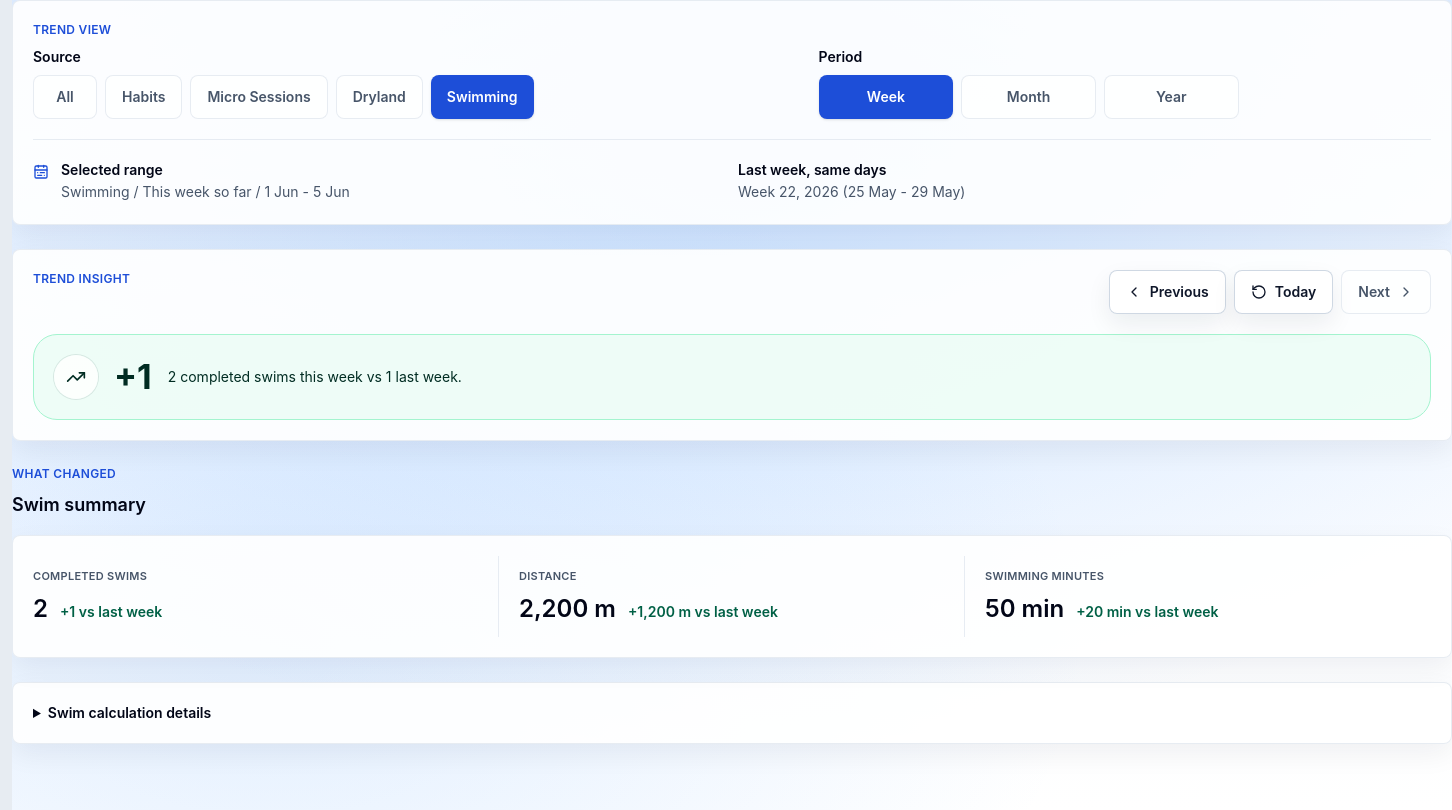
Test: CalendarPeriodComparisonHub › renders mapped Swimming metrics and trusted-row details
Expected: the heading "Swim summary" is shown, [12,494,146,515]
Expected: the text "+1" is shown, [114,356,152,397]
Click the heading "Swim calculation details".
click(130, 712)  # box [48,704,211,720]
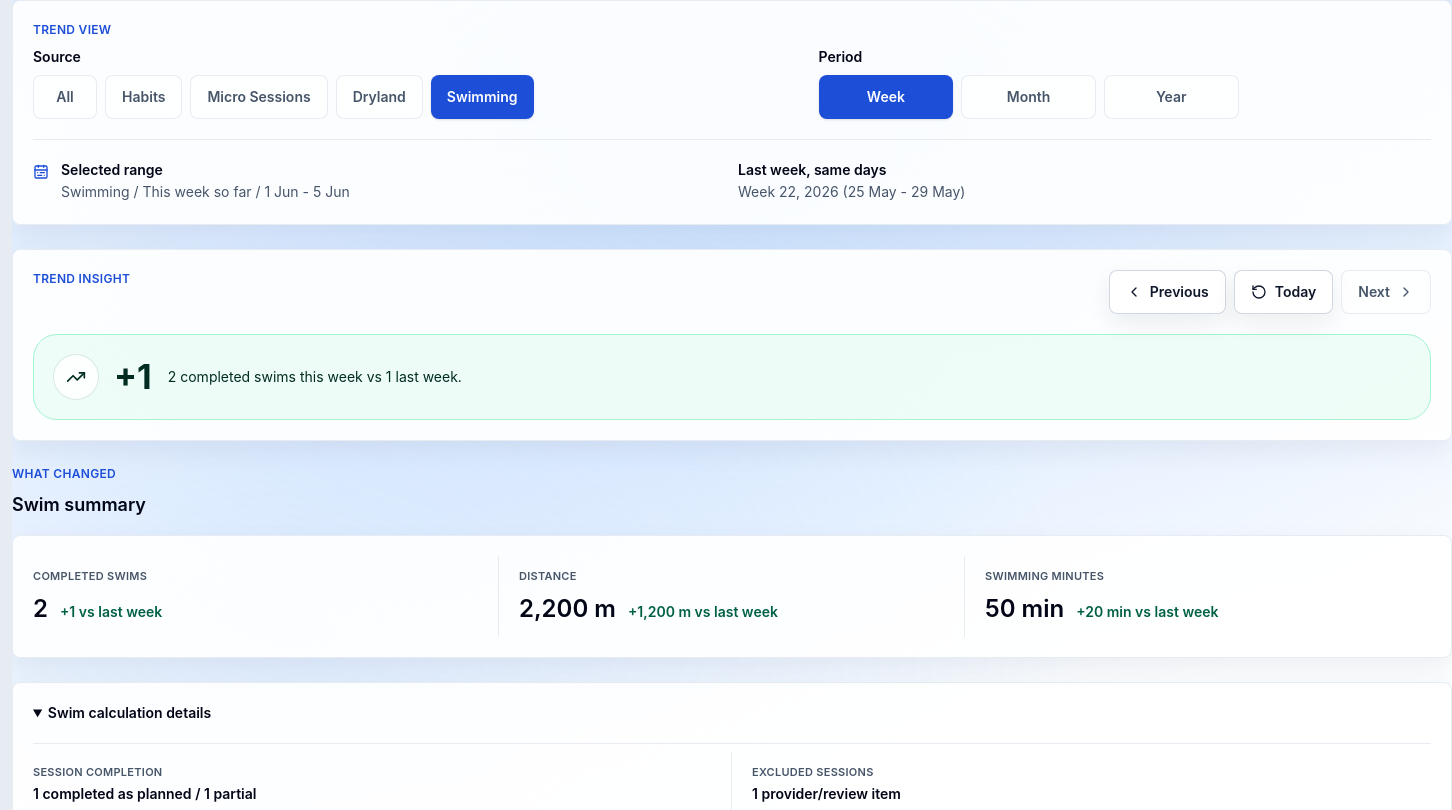
Result: the text "Session completion" is shown at [33,764,162,778]
Result: the text "1 completed as planned / 1 partial" is shown at [33,785,256,802]
Result: the text "Excluded sessions" is shown at [752,764,874,778]
